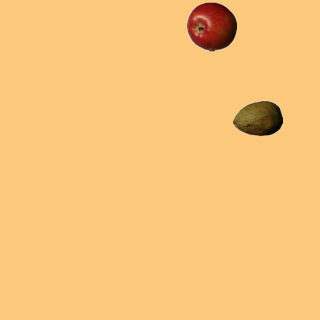Apple Braeburn: (186, 1, 236, 51)
Papaya: (232, 93, 282, 143)
